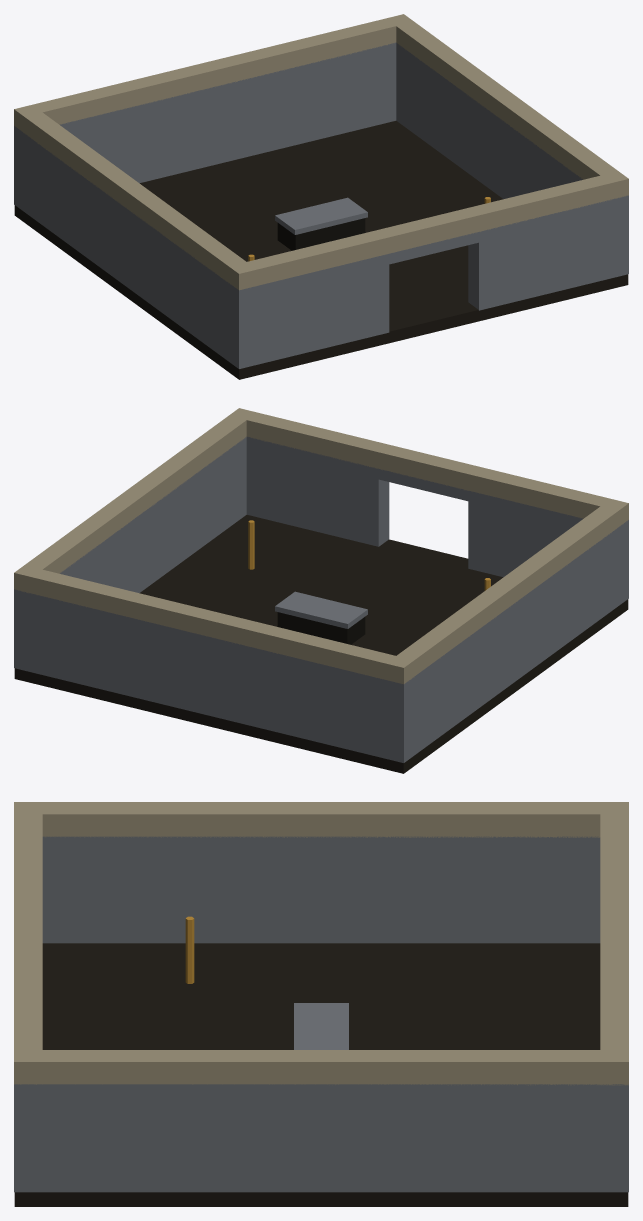
The model's file is CryptAntechamber.fbx.
3 renders of one model, top to bottom at view 1: azimuth 30°, elevation 25°; view 2: azimuth 150°, elevation 25°; view 3: azimuth 270°, elevation 25°, orthographic. The views are drawn at different scales.
Parts seen in each view (by area): view 1: CryptAntechamber; view 2: CryptAntechamber; view 3: CryptAntechamber.
Boxes of the visible parts, bbox=[...] form: CryptAntechamber: bbox=[14, 14, 628, 379]; CryptAntechamber: bbox=[14, 408, 628, 773]; CryptAntechamber: bbox=[14, 802, 628, 1206].
Bounding box in the file's own units: 1122 × 292 × 1122.
Materials: 5 (5 with a texture image).
